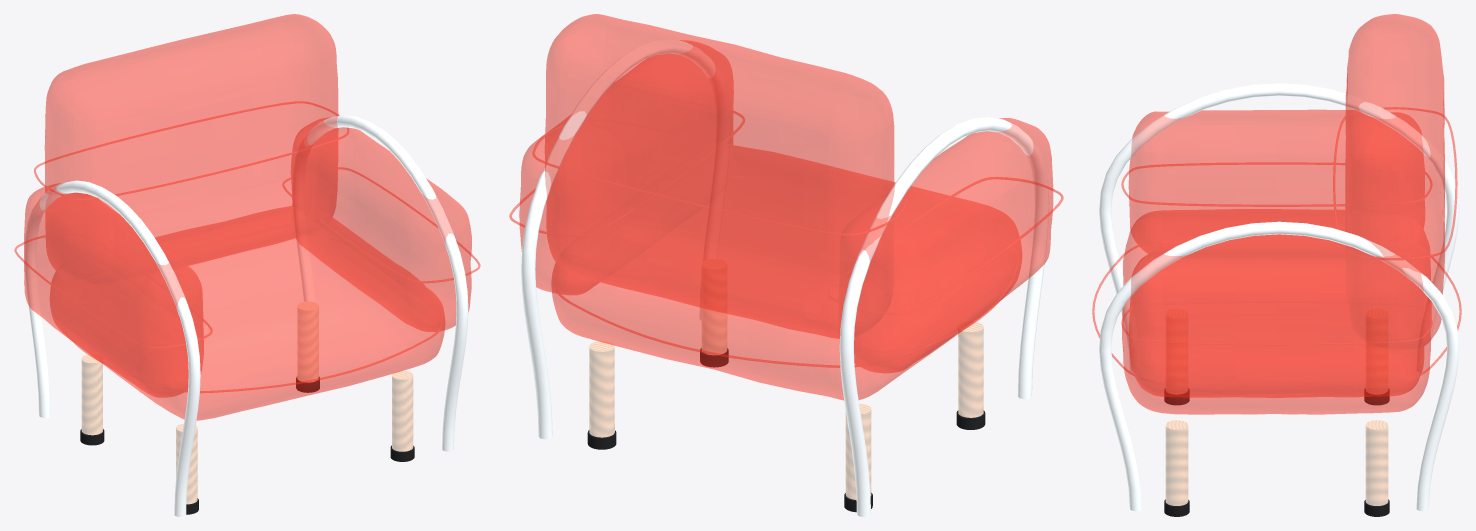
The model's file is ref06_10.glb.
3 renders of one model, left to right at view 1: azimuth 30°, elevation 25°; view 2: azimuth 150°, elevation 25°; view 3: azimuth 270°, elevation 25°, orthographic. The views are drawn at different scales.
Parts seen in each view (by area): view 1: ref06_10; view 2: ref06_10; view 3: ref06_10.
Boxes of the visible parts, x1,y1,x2,y2 form: ref06_10: (14, 14, 480, 516); ref06_10: (509, 14, 1063, 516); ref06_10: (1092, 14, 1461, 516).
Bounding box in the file's own units: 0.9449 × 0.9341 × 0.8127.
4 materials, 1 textured.
